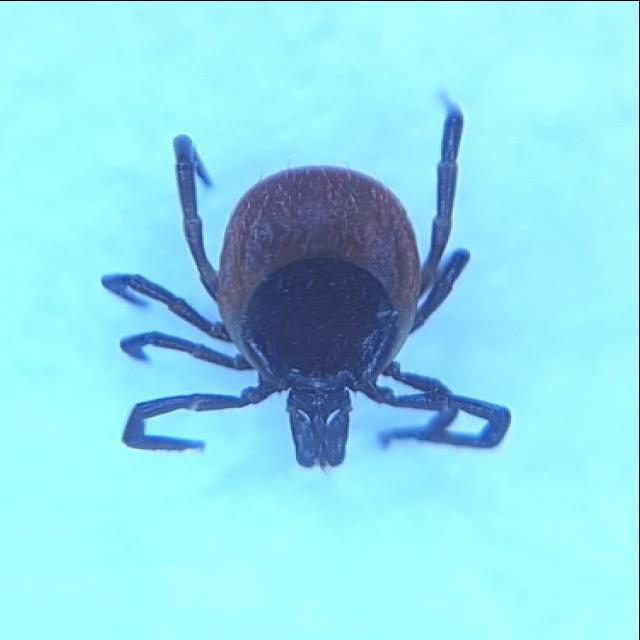Ixodes Ricinus-F: (102, 87, 512, 468)
